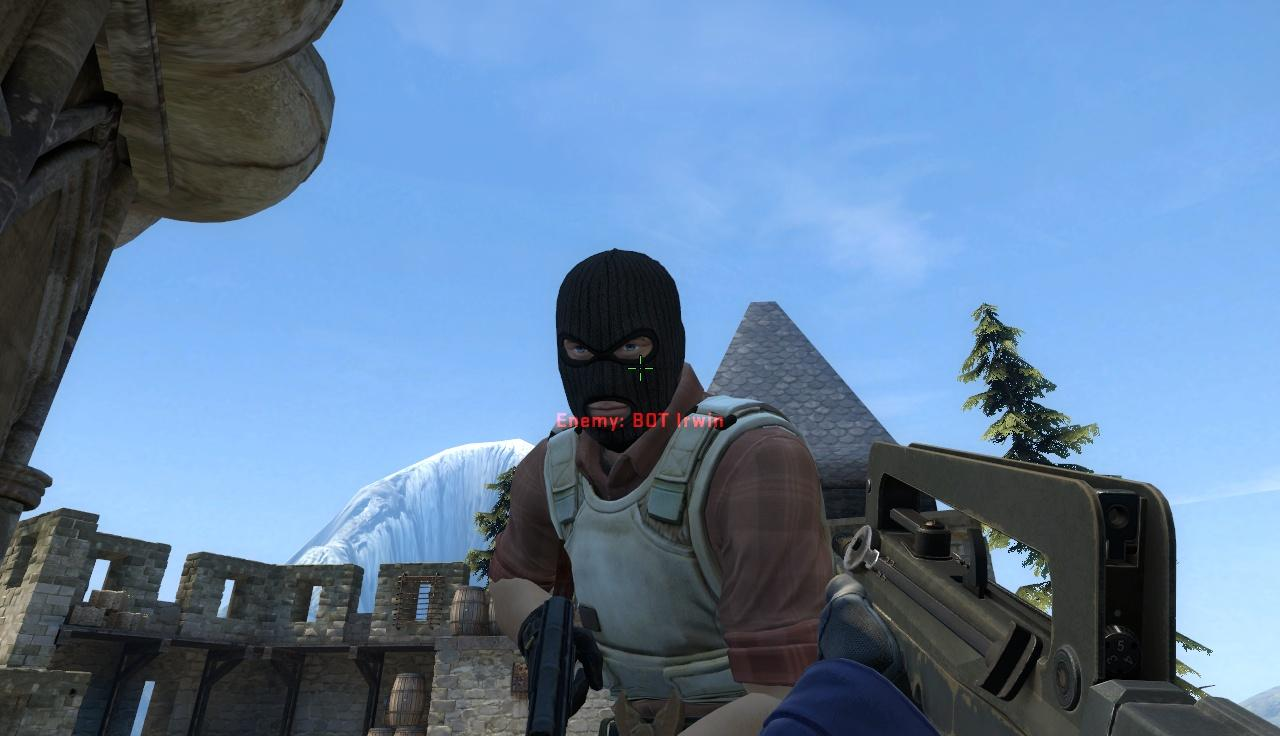rifle: (834, 440, 1280, 736)
tt: (493, 249, 830, 736)
tthead: (555, 248, 688, 451)
